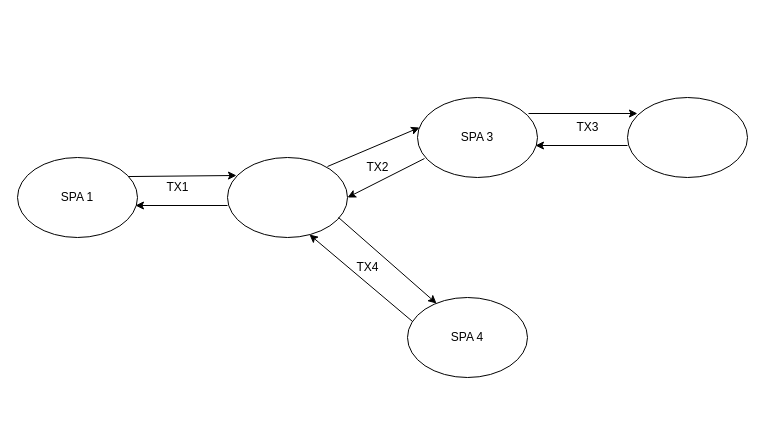
Some shapes in this 765 by 424 pixel diagram are drawn without their labels. Each missing label, with the box of its shape:
SPA 2: (226, 156, 348, 238)
SPA 5: (626, 96, 748, 178)
